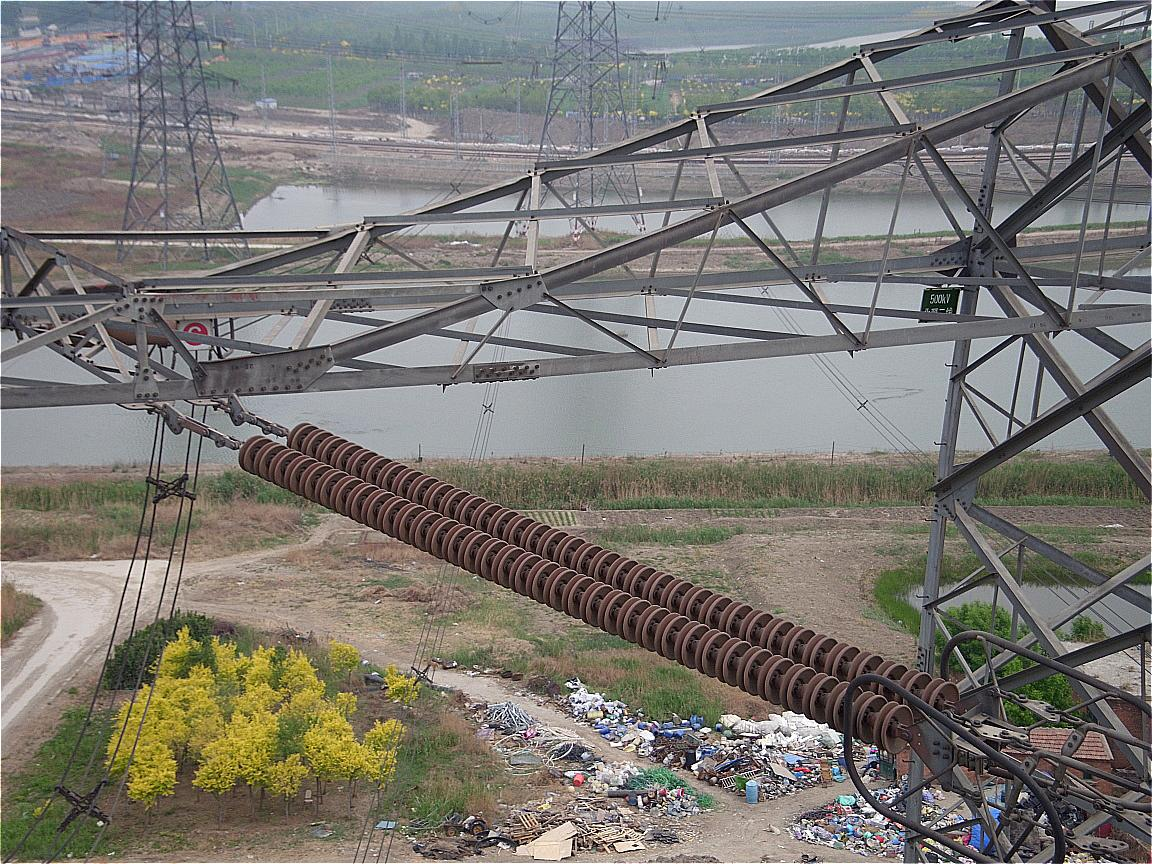insultor2: (226, 394, 972, 766)
